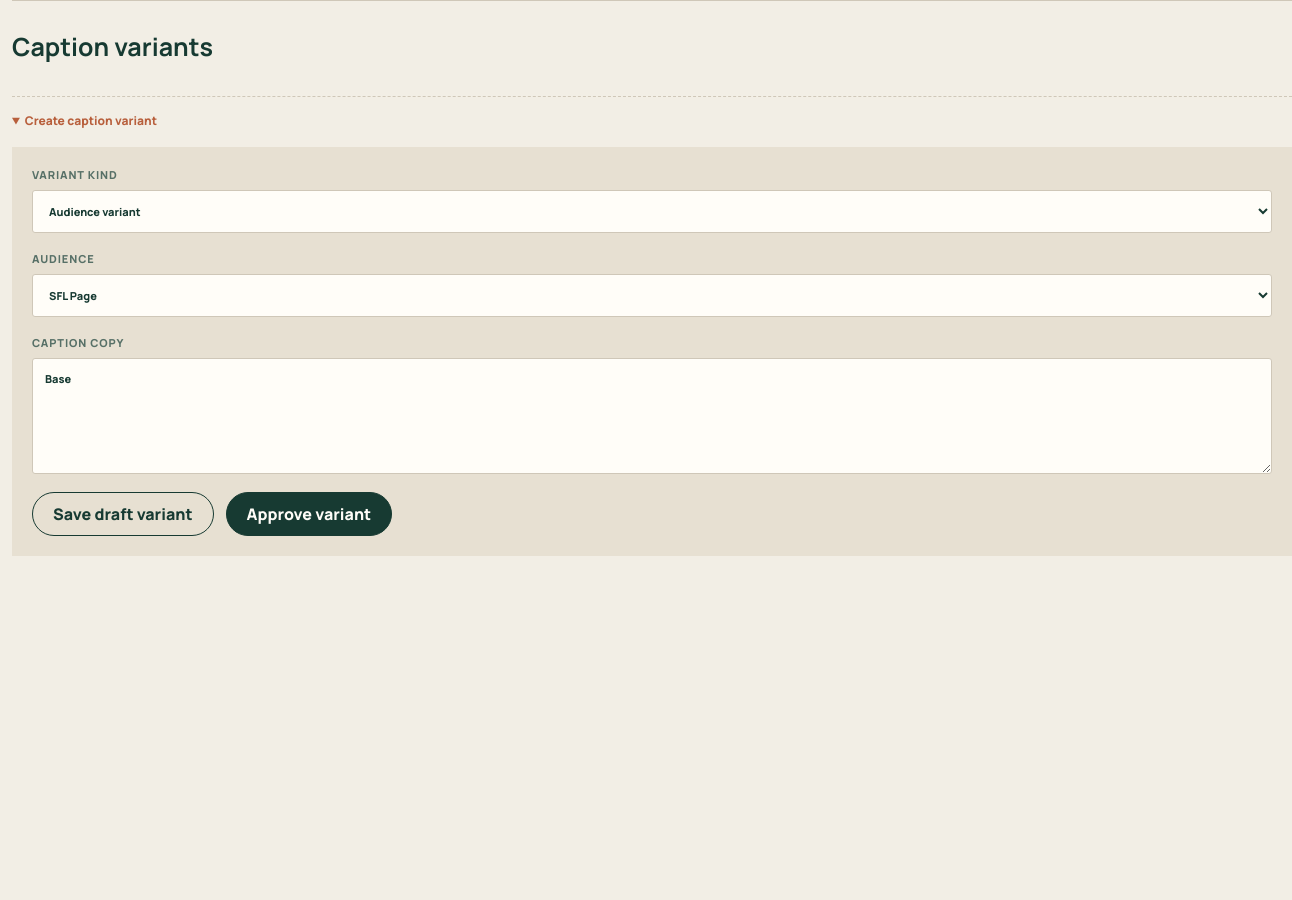
Test: CaptionVariantEditor › supports an exact destination override and explicit approval
Select "Destination override" in the dropdown labelled "Variant kind". click: {"x": 652, "y": 212}
box: [32,190,1272,233]
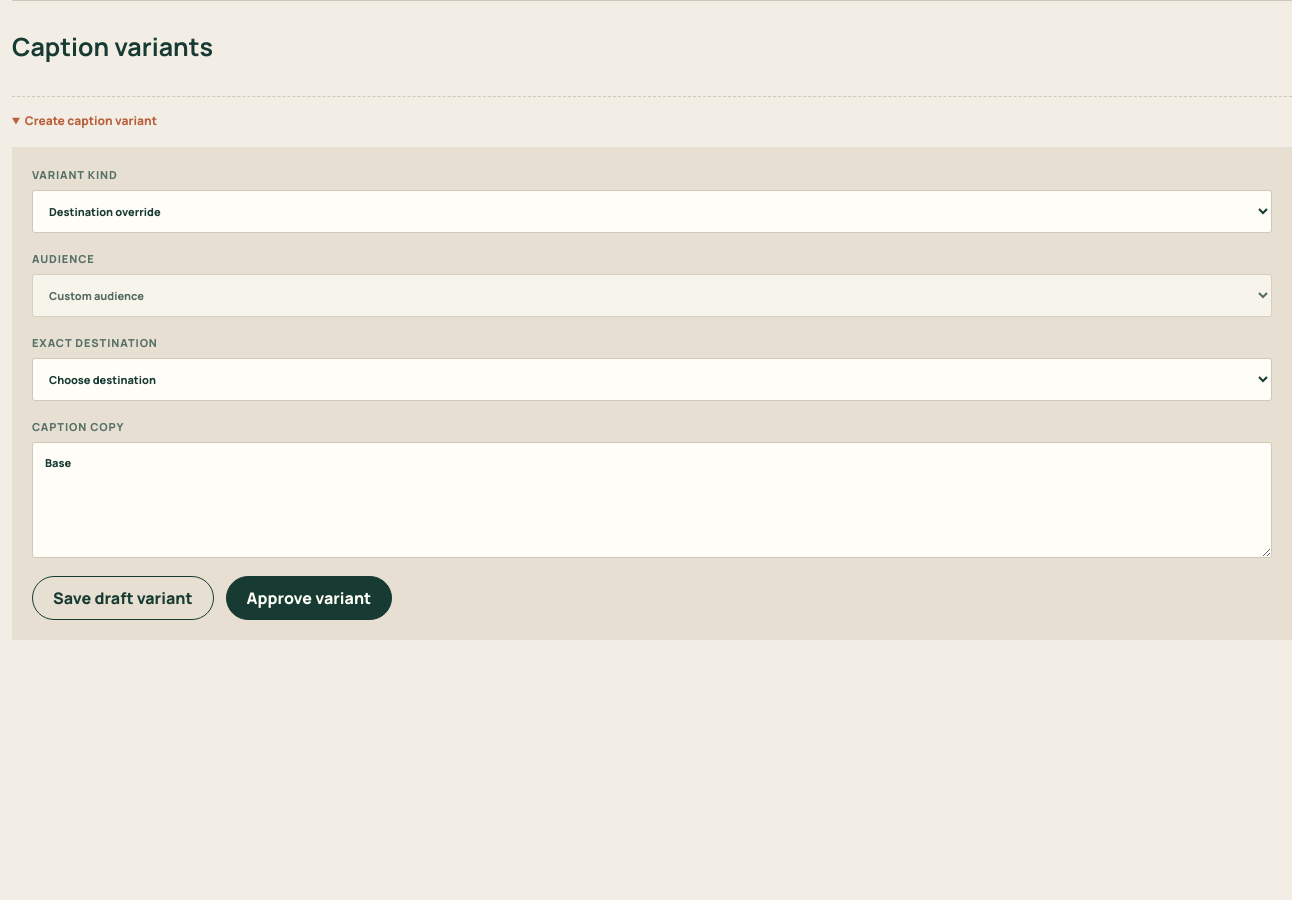
Expected: the button "Approve variant" is shown, [226,576,392,620]
Now the dropdown labelled "Exact destination" is shown, box [32,358,1272,401]
Now the dropdown labelled "Audience" shows "Custom audience", box [32,274,1272,317]
